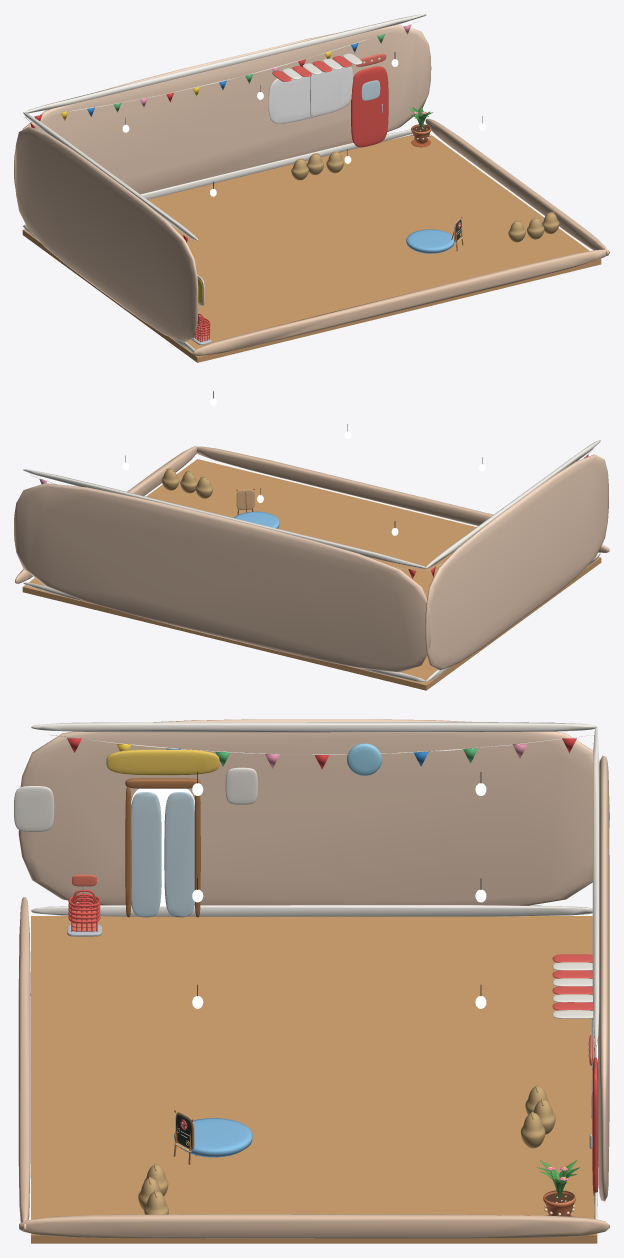
Rendered from tienda1_base.glb.
3 renders of one model, top to bottom at view 1: azimuth 30°, elevation 25°; view 2: azimuth 150°, elevation 25°; view 3: azimuth 270°, elevation 25°, orthographic. The views are drawn at different scales.
Visible parts, largest first — view 1: piso, pared fondo, pared izquierda, muro bajo frente, marco, muro bajo derecha, cornisa fondo, puerta, zócalo fondo, cornisa izquierda, tarima oferta; view 2: pared fondo, pared izquierda, piso, muro bajo frente, cornisa fondo, muro bajo derecha, cornisa izquierda, zócalo fondo, tarima oferta; view 3: piso, pared izquierda, muro bajo derecha, cornisa izquierda, zócalo izquierdo, pared fondo, muro bajo frente, hoja puerta, hoja puerta.001, letrero.001, cornisa fondo, tarima oferta (+8 smaller).
Part boxes in pixels (left/top/right/bottom): piso: left=22, top=134, right=601, bottom=362; pared fondo: left=14, top=24, right=431, bottom=194; pared izquierda: left=15, top=126, right=198, bottom=342; muro bajo frente: left=192, top=249, right=609, bottom=355; marco: left=268, top=66, right=353, bottom=123; muro bajo derecha: left=425, top=118, right=608, bottom=255; cornisa fondo: left=25, top=14, right=426, bottom=113; puerta: left=351, top=66, right=388, bottom=147; zócalo fondo: left=23, top=129, right=412, bottom=226; cornisa izquierda: left=23, top=112, right=198, bottom=240; tarima oferta: left=406, top=229, right=454, bottom=253; pared fondo: left=14, top=483, right=431, bottom=672; pared izquierda: left=425, top=454, right=608, bottom=670; piso: left=22, top=459, right=601, bottom=690; muro bajo frente: left=196, top=446, right=609, bottom=552; cornisa fondo: left=23, top=469, right=426, bottom=568; muro bajo derecha: left=15, top=446, right=196, bottom=583; cornisa izquierda: left=425, top=440, right=600, bottom=568; zócalo fondo: left=23, top=582, right=426, bottom=682; tarima oferta: left=234, top=511, right=279, bottom=528; piso: left=31, top=916, right=597, bottom=1243; pared izquierda: left=18, top=719, right=609, bottom=905; muro bajo derecha: left=19, top=1214, right=609, bottom=1238; cornisa izquierda: left=31, top=722, right=597, bottom=732; zócalo izquierdo: left=31, top=905, right=592, bottom=916; pared fondo: left=598, top=755, right=609, bottom=1201; muro bajo frente: left=18, top=897, right=30, bottom=1231; hoja puerta: left=131, top=792, right=161, bottom=917; hoja puerta.001: left=164, top=792, right=194, bottom=917; letrero.001: left=106, top=749, right=219, bottom=775; cornisa fondo: left=592, top=727, right=599, bottom=1046; tarima oferta: left=174, top=1118, right=252, bottom=1157.
Size of the model in its own units: 12.4 by 3.61 by 9.47.
